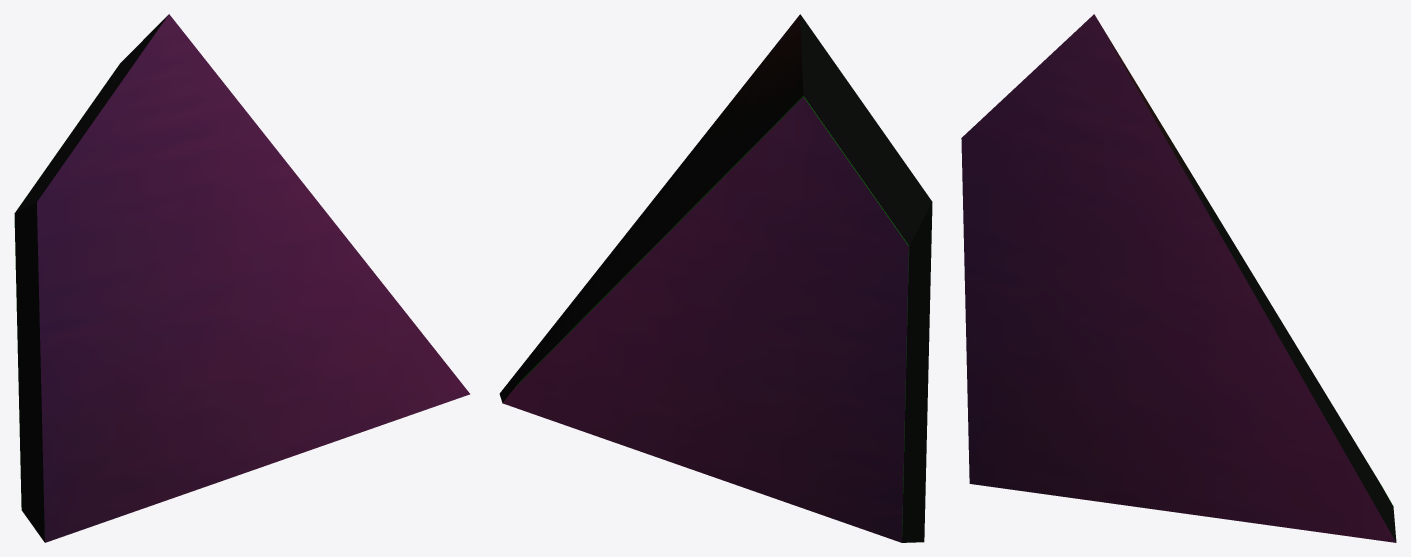
File: Trail8_2.fbx
3 renders of one model, left to right at view 1: azimuth 30°, elevation 25°; view 2: azimuth 150°, elevation 25°; view 3: azimuth 330°, elevation 25°, orthographic.
Parts seen in each view (by area): view 1: Eff_Model_Shougun_08_2; view 2: Eff_Model_Shougun_08_2; view 3: Eff_Model_Shougun_08_2.
Part boxes in pixels (x1,y1,x2,y2): Eff_Model_Shougun_08_2: [14, 14, 469, 542]; Eff_Model_Shougun_08_2: [499, 14, 932, 542]; Eff_Model_Shougun_08_2: [961, 14, 1396, 542].
Bounding box in the file's own units: 19.72 × 21.67 × 1.81.
